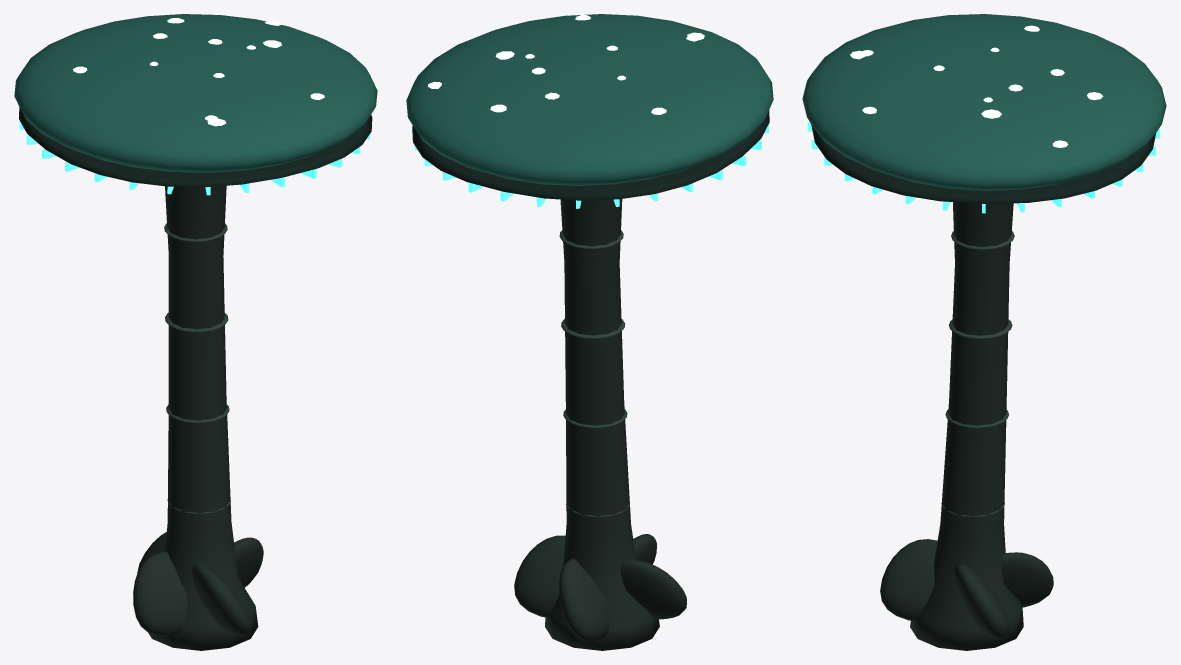
The model's file is prop_fungus_0.glb.
3 renders of one model, left to right at view 1: azimuth 30°, elevation 25°; view 2: azimuth 150°, elevation 25°; view 3: azimuth 270°, elevation 25°, orthographic.
Parts seen in each view (by area): view 1: cap_dome, buttress0, cap_under, scar0, gill0, spot0; view 2: cap_dome, buttress0, cap_under, scar0, spot0, gill0; view 3: cap_dome, buttress0, cap_under, scar0, spot0, gill0.
Part boxes in pixels (x1,y1,x2,y2): cap_dome: [14, 14, 377, 172]; buttress0: [133, 185, 263, 650]; cap_under: [19, 107, 372, 187]; scar0: [164, 223, 230, 513]; gill0: [19, 121, 369, 195]; spot0: [73, 18, 324, 126]; cap_dome: [406, 14, 773, 185]; buttress0: [514, 199, 686, 650]; cap_under: [412, 110, 769, 200]; scar0: [559, 230, 629, 517]; spot0: [428, 15, 704, 114]; gill0: [414, 124, 768, 208]; cap_dome: [802, 14, 1166, 190]; buttress0: [880, 202, 1053, 650]; cap_under: [811, 125, 1155, 203]; scar0: [941, 231, 1014, 517]; spot0: [850, 25, 1103, 147]; gill0: [807, 122, 1159, 213].
Size of the model in its own units: 4.8 by 8.17 by 4.8.
